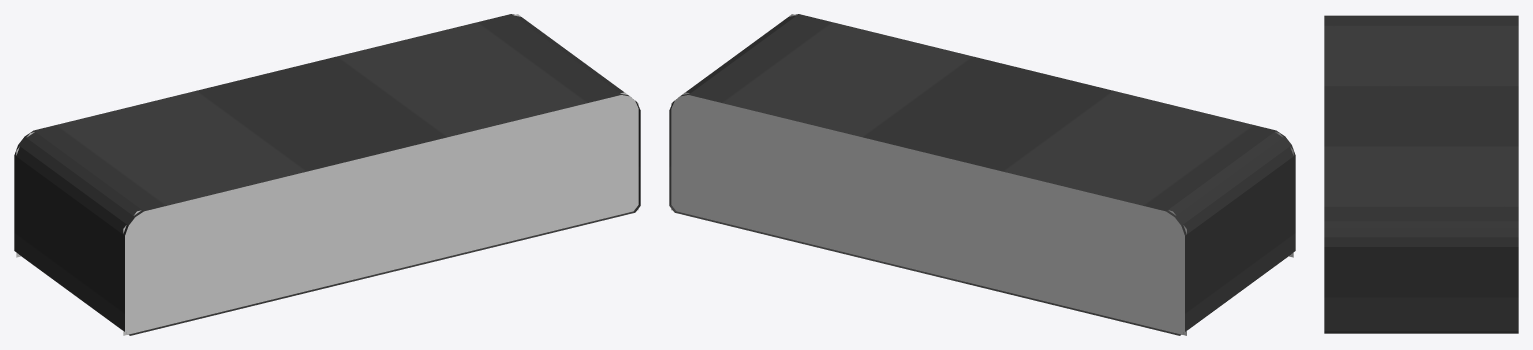
File: Conveyor.fbx
The picture shows the model from 3 angles, left to right: view 1: azimuth 30°, elevation 25°; view 2: azimuth 150°, elevation 25°; view 3: azimuth 270°, elevation 25°; orthographic projection. The views are drawn at different scales.
Parts seen in each view (by area): view 1: Belt, Sides; view 2: Belt, Sides; view 3: Belt.
Boxes of the visible parts, x1,y1,x2,y2 form: Belt: [14, 14, 640, 335]; Sides: [16, 14, 638, 335]; Belt: [669, 14, 1295, 335]; Sides: [671, 14, 1293, 335]; Belt: [1324, 15, 1518, 333].
Size of the model in its own units: 173 by 38.94 by 64.37.
